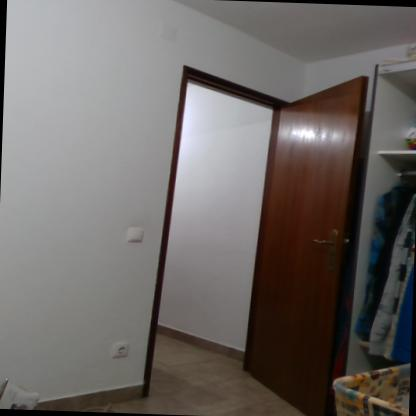open: (146, 58, 378, 409)
